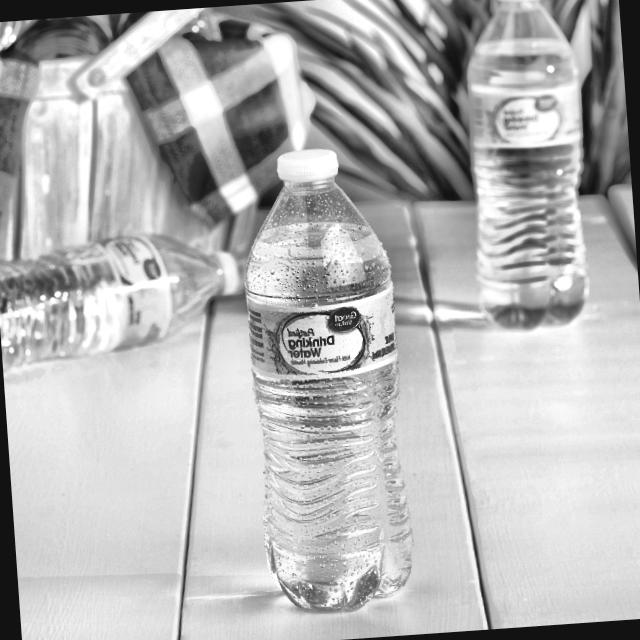waterbottle: (225, 130, 427, 626), (443, 0, 604, 346), (0, 227, 246, 372)
